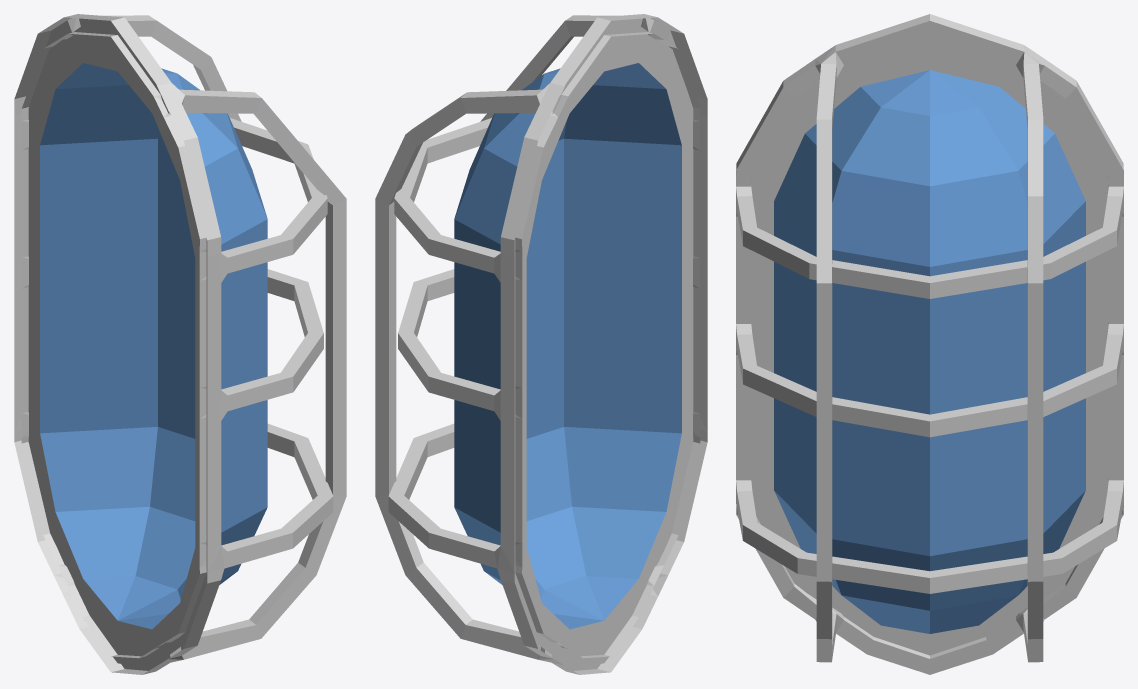
Rendered from cage_light.fbx.
3 renders of one model, left to right at view 1: azimuth 30°, elevation 25°; view 2: azimuth 150°, elevation 25°; view 3: azimuth 270°, elevation 25°, orthographic.
Parts seen in each view (by area): view 1: cage_light; view 2: cage_light; view 3: cage_light.
Part boxes in pixels (x1,y1,x2,y2): cage_light: (14,14,346,674); cage_light: (375,14,707,674); cage_light: (736,14,1123,674).
Bounding box in the file's own units: 19.45 × 61.31 × 32.96.
